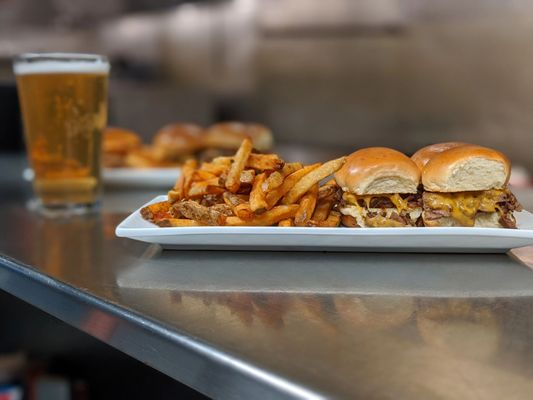soup: (408, 141, 523, 229), (333, 147, 424, 228)
